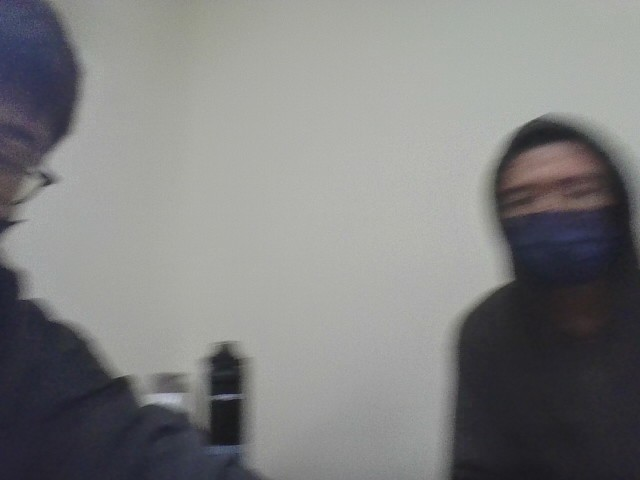No_Helmet: (491, 113, 637, 285)
person: (0, 0, 251, 478), (432, 104, 640, 480)
